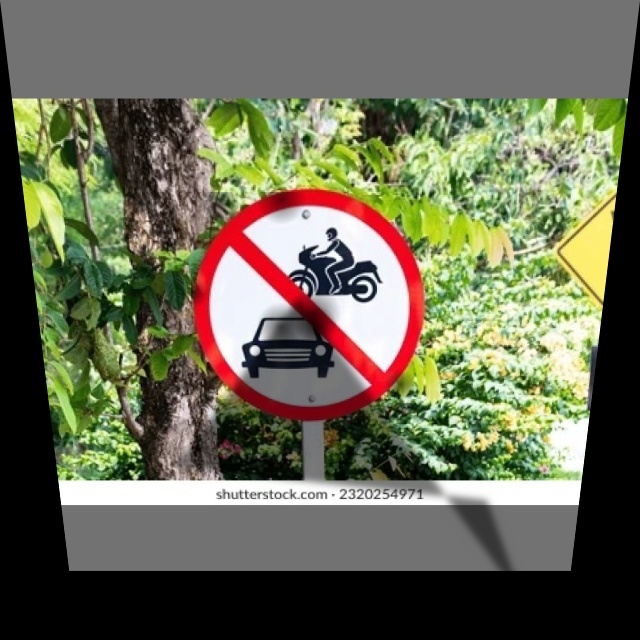All_Motor_Vehicles_Prohibited: (191, 192, 422, 414)
